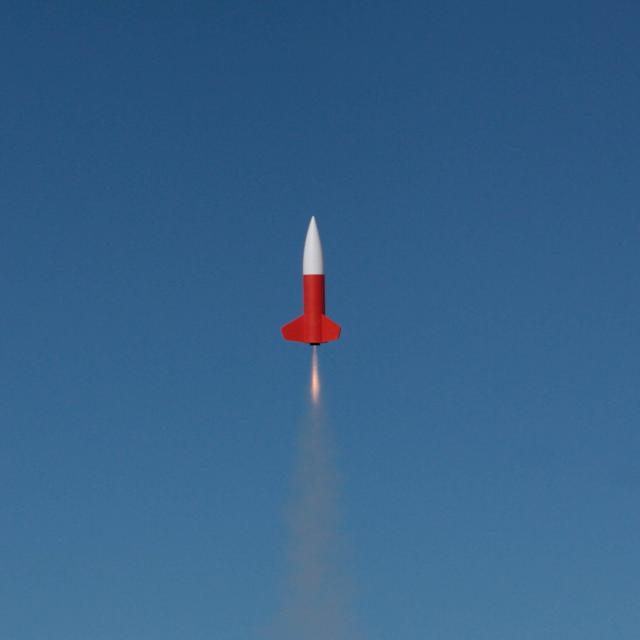Rocket: (280, 215, 343, 346)
